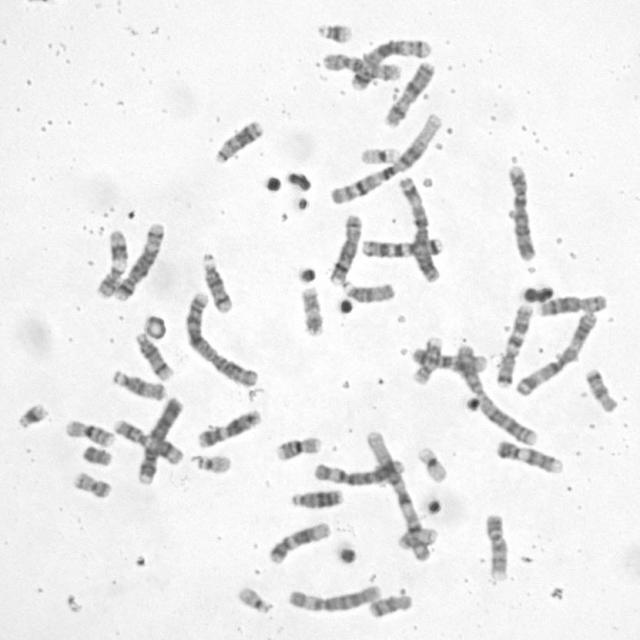A1: (326, 108, 444, 206), (363, 427, 433, 562)
A2: (453, 341, 537, 446), (181, 289, 260, 388)
A3: (512, 308, 600, 398), (396, 173, 441, 284)
B4: (134, 394, 185, 486), (504, 160, 538, 263)
B5: (347, 36, 434, 91), (112, 218, 166, 303)
C10: (320, 50, 403, 82), (407, 344, 488, 374)
C11: (110, 415, 185, 467), (94, 227, 129, 300)
C12: (194, 405, 263, 450), (266, 519, 332, 566)
C6: (284, 580, 381, 614), (310, 455, 405, 487)
C7: (493, 302, 535, 388), (358, 234, 444, 260)
C8: (326, 211, 363, 287), (536, 290, 608, 318)
C9: (494, 438, 564, 476), (483, 510, 511, 582)
D13: (211, 116, 265, 166), (288, 486, 344, 510)
D14: (198, 250, 233, 315), (133, 329, 174, 382)
D15: (110, 367, 168, 402), (340, 277, 396, 304)
E16: (62, 416, 116, 448), (272, 433, 324, 462)
E17: (409, 334, 444, 387), (297, 283, 325, 338)
E18: (582, 365, 618, 414), (366, 591, 413, 620)
F19: (416, 442, 450, 484), (356, 143, 401, 166)
F20: (71, 468, 113, 501), (396, 527, 438, 552)
G21: (13, 398, 51, 431), (315, 20, 354, 44)
G22: (234, 583, 275, 615), (190, 452, 233, 476)
X: (381, 58, 436, 128)
Y: (80, 443, 114, 467), (284, 168, 314, 192)
